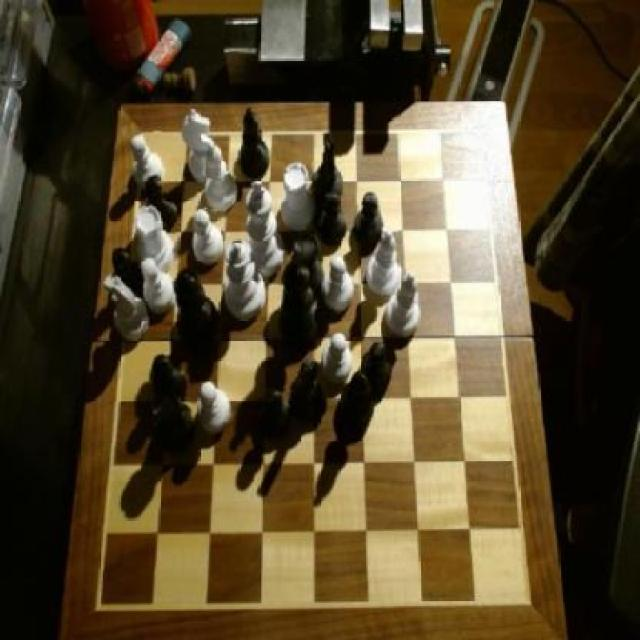bishop: (235, 106, 271, 179), (111, 246, 149, 297)
black-bishop: (278, 255, 320, 348)
black-king: (290, 357, 324, 421), (314, 135, 343, 198)
black-knight: (256, 388, 296, 445), (151, 354, 189, 404), (146, 174, 179, 227), (342, 372, 372, 426), (354, 191, 383, 246), (362, 342, 392, 393), (318, 192, 346, 243)
black-pawn: (174, 268, 220, 348)
black-queen: (156, 392, 197, 451), (291, 236, 325, 296)
black-rook: (383, 269, 422, 338), (203, 144, 238, 212), (366, 228, 401, 295)
white-bishop: (247, 178, 286, 274)
white-king: (103, 276, 149, 342), (181, 109, 217, 179)
white-knight: (142, 257, 179, 311), (192, 206, 225, 266), (321, 255, 354, 313), (198, 382, 232, 433), (130, 132, 162, 185), (323, 331, 354, 383)
white-pawn: (224, 240, 268, 323)
white-queen: (134, 205, 178, 273), (282, 163, 316, 231)
